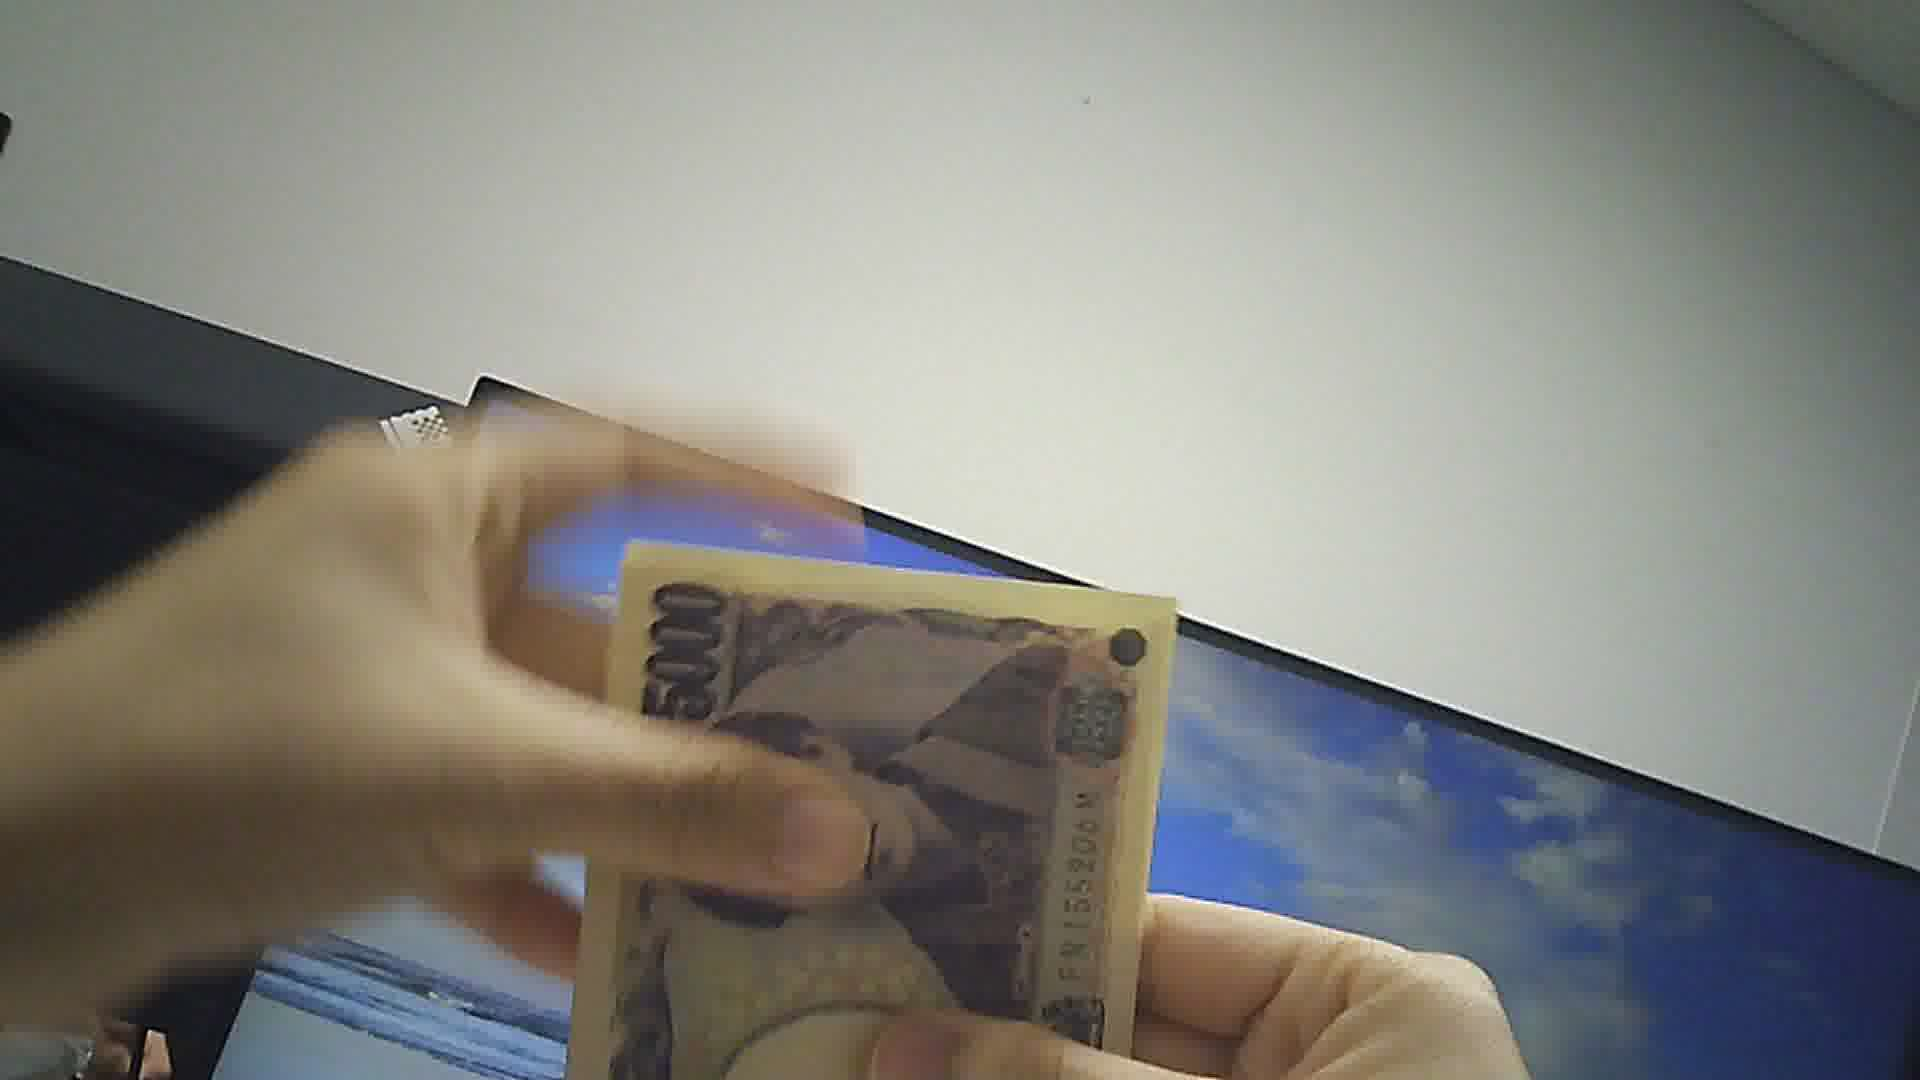5,000 Yen: (560, 524, 1162, 1075)
